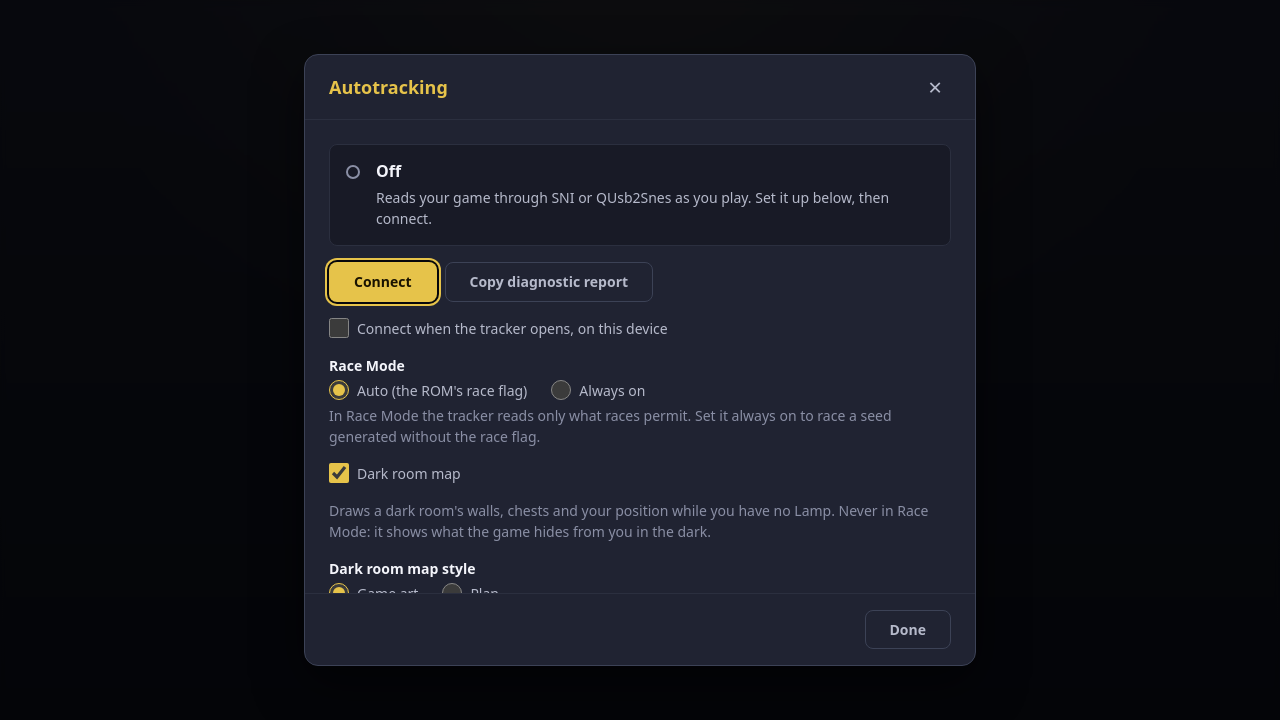
Test: AutotrackDialog's actions › shows the report to copy by hand when the clipboard refuses
Click the button with test id "autotrack-copy-report": (549, 282) [444, 262, 653, 302]
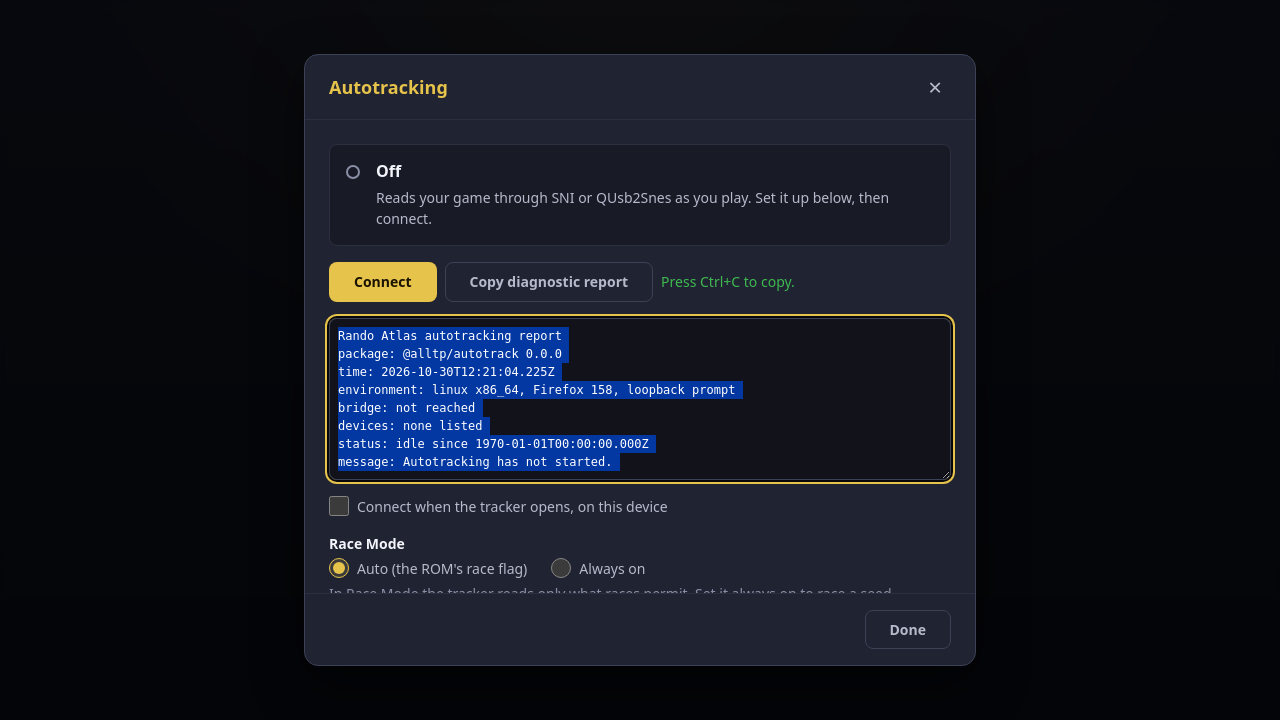
Check: the text with test id "autotrack-copy-status" reads "Press Ctrl+C to copy.", box [661, 272, 795, 291]
